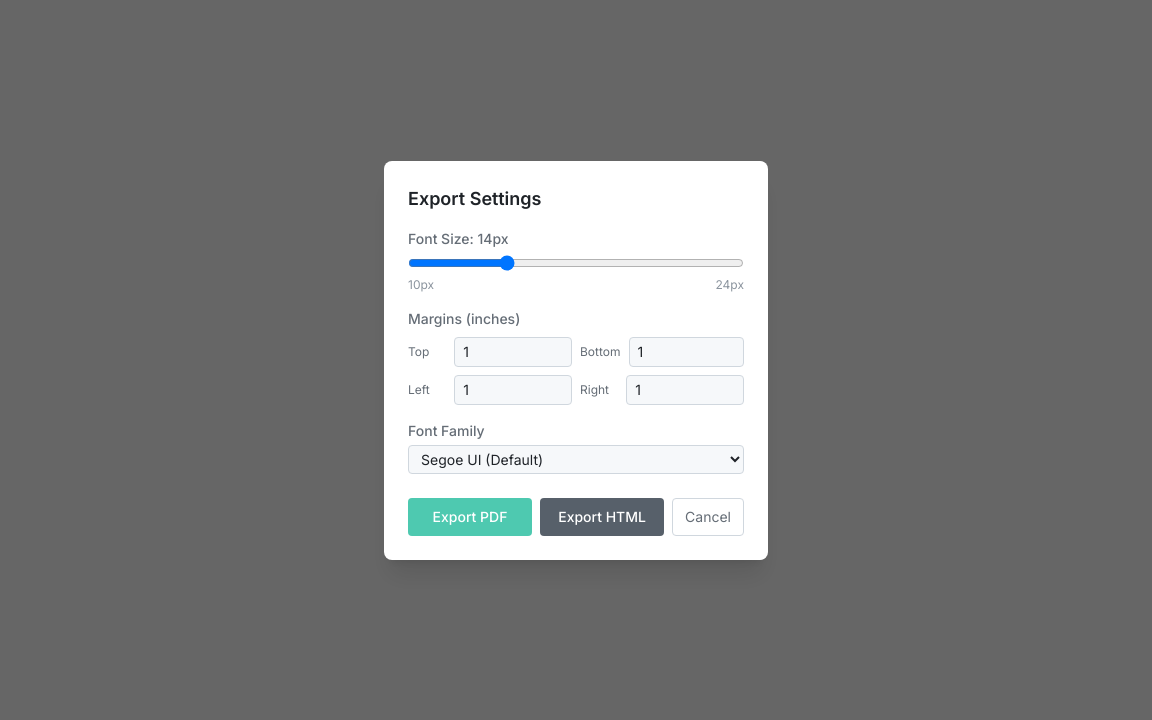
Test: ExportDialog › updates font size when slider changes
Set the slider to "18" at (599, 262), box x1=408 y1=254 x2=744 y2=270
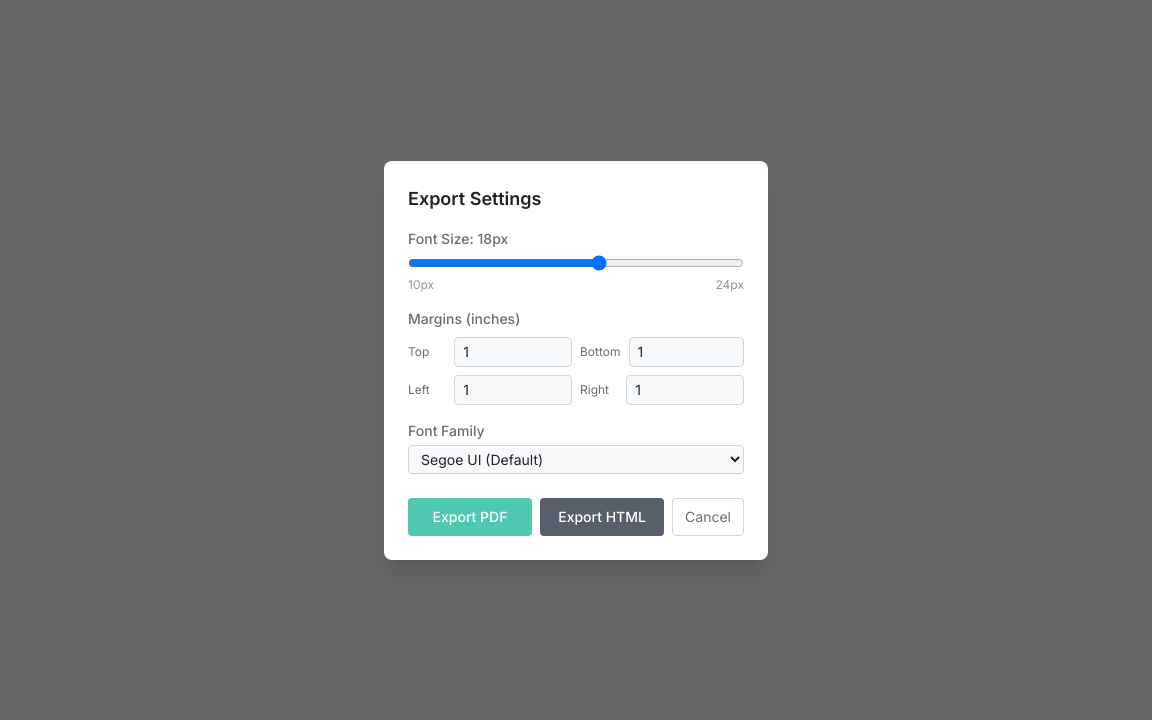
Check: the text "Font Size: 18px" is shown, box x1=408 y1=230 x2=508 y2=246
